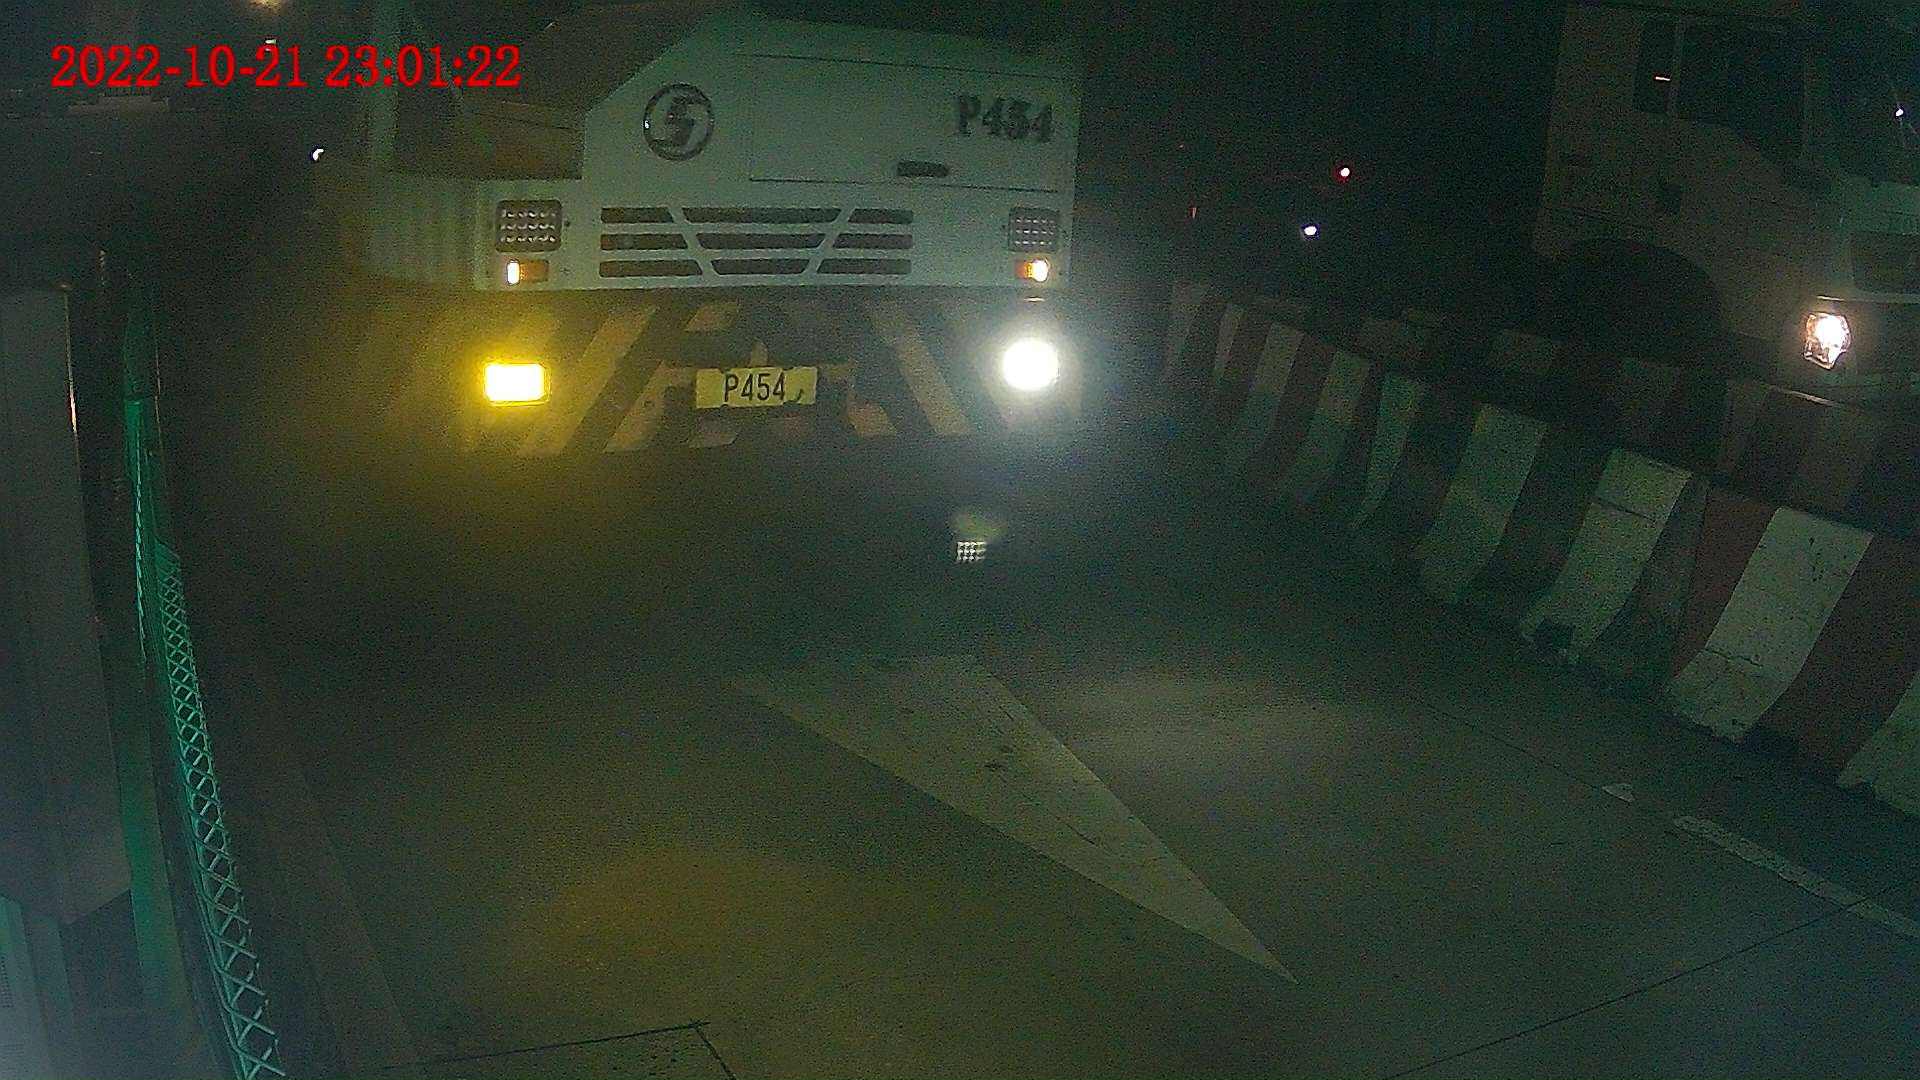head: (265, 1, 1085, 532)
plate: (700, 367, 817, 405)
